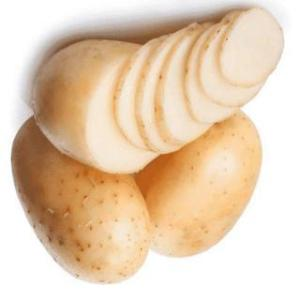potato: (32, 9, 280, 174), (12, 114, 150, 284), (136, 113, 262, 257)
